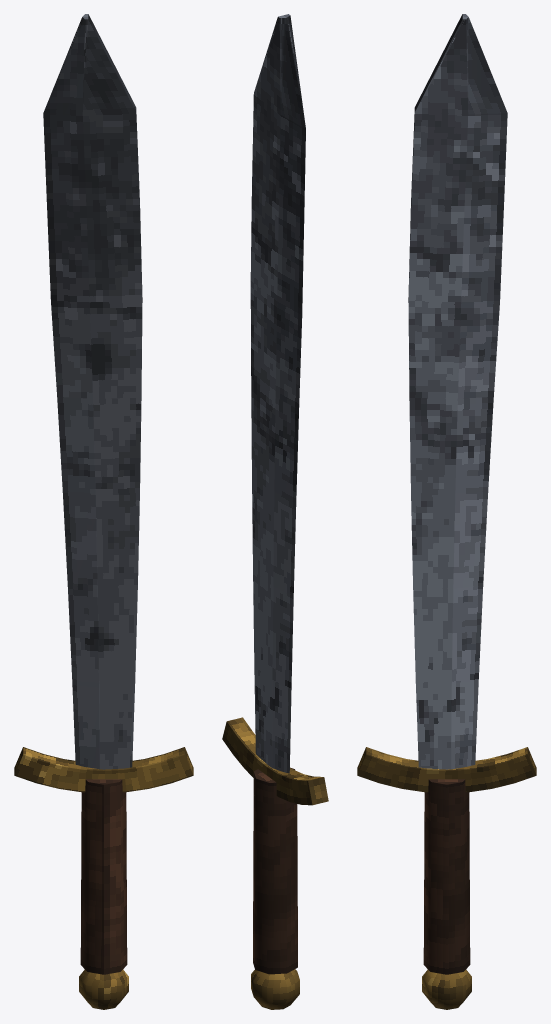
The model's file is falchion.glb.
3 views of the same model, side by side, from view 1: azimuth 90°, elevation 25°; view 2: azimuth 210°, elevation 25°; view 3: azimuth 270°, elevation 25° (orthographic).
Parts seen in each view (by area): view 1: falchion; view 2: falchion; view 3: falchion.
Boxes of the visible parts, left/top/right/bottom form: falchion: left=14, top=14, right=193, bottom=1009; falchion: left=222, top=14, right=328, bottom=1009; falchion: left=357, top=14, right=536, bottom=1009.
Bounding box in the file's own units: 0.0323 × 0.7057 × 0.1157.
1 material, 1 textured.
